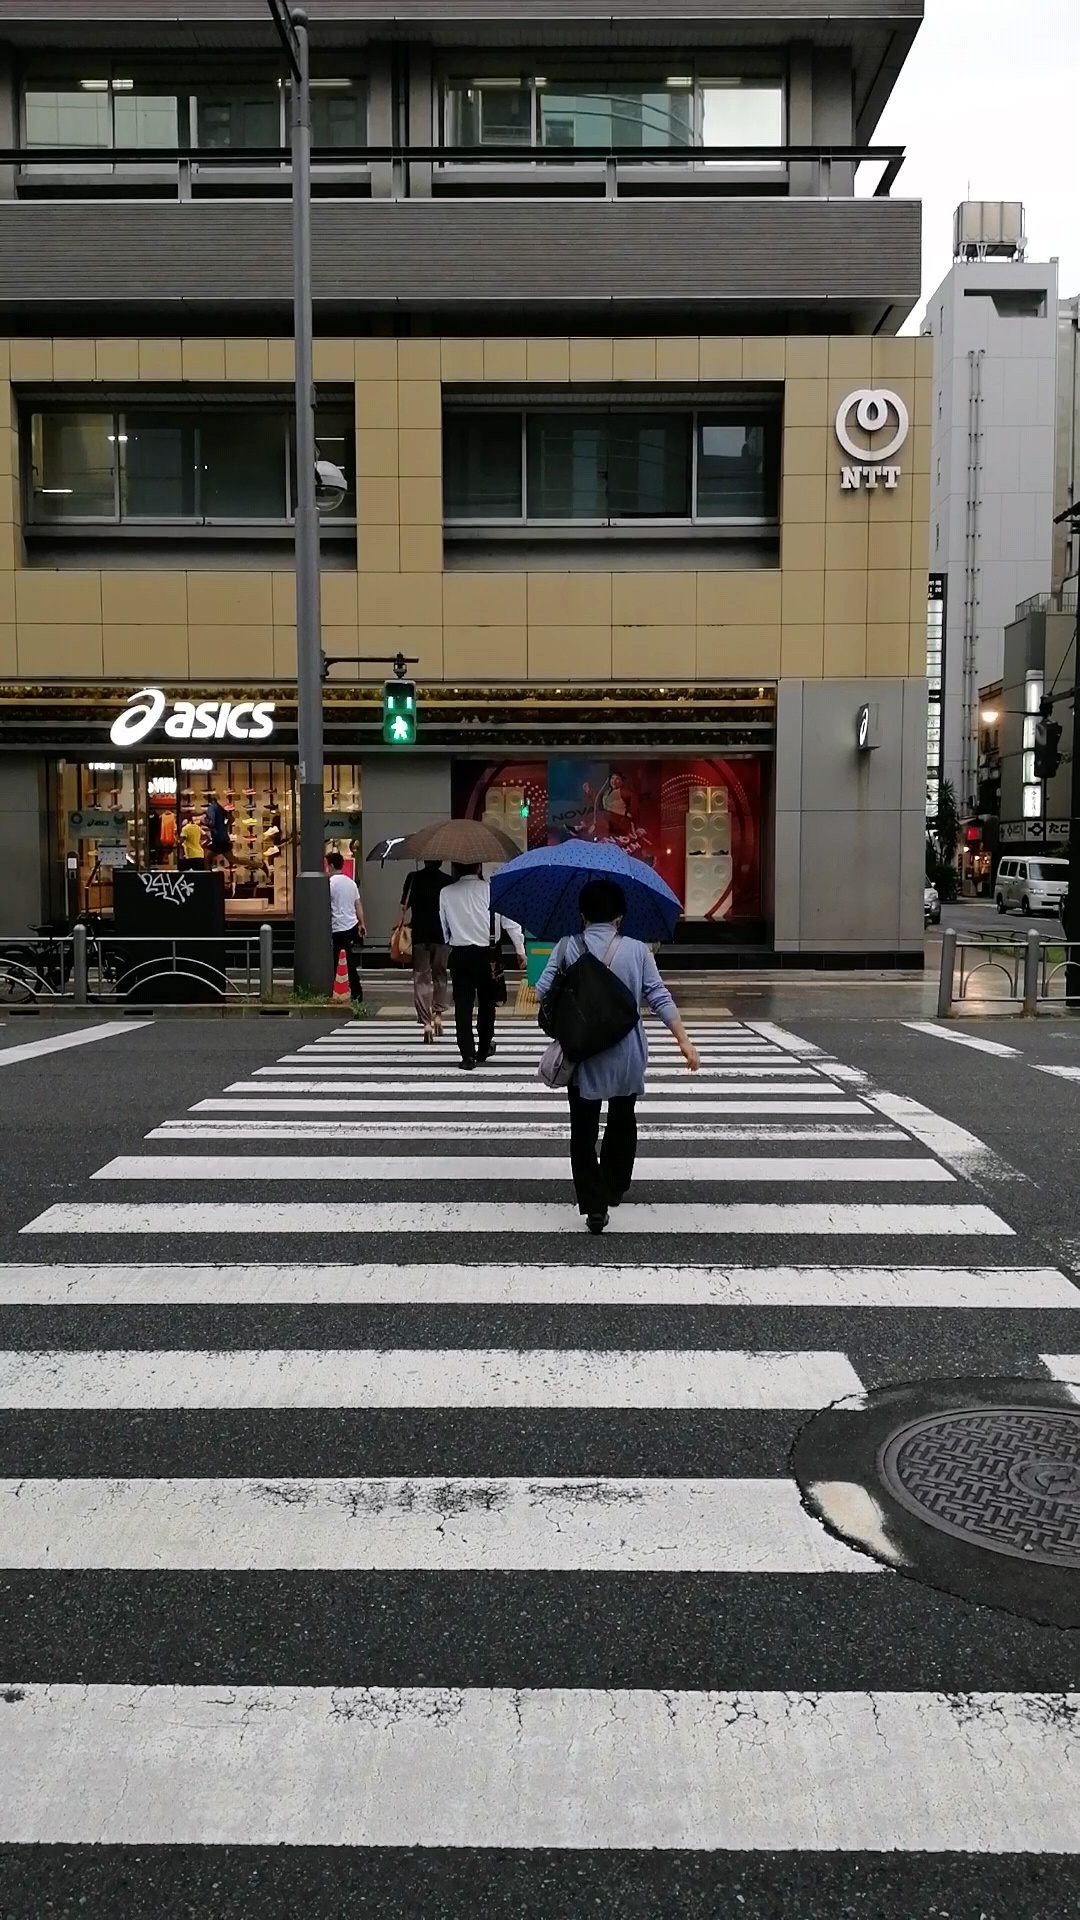green: (378, 678, 419, 746)
